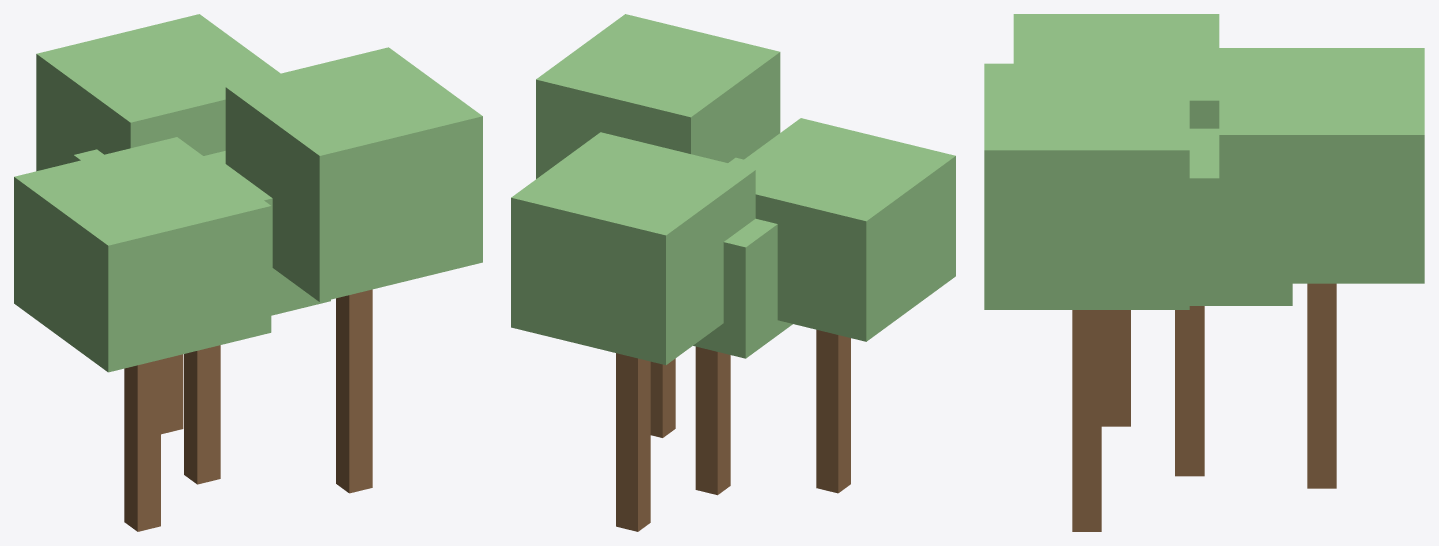
Rendered from voxel-shandong-tree-cluster.gltf.
3 views of the same model, side by side, from view 1: azimuth 30°, elevation 25°; view 2: azimuth 150°, elevation 25°; view 3: azimuth 270°, elevation 25° (orthographic). The views are drawn at different scales.
Bounding box in the file's own units: 1.55 × 1.58 × 1.5.
